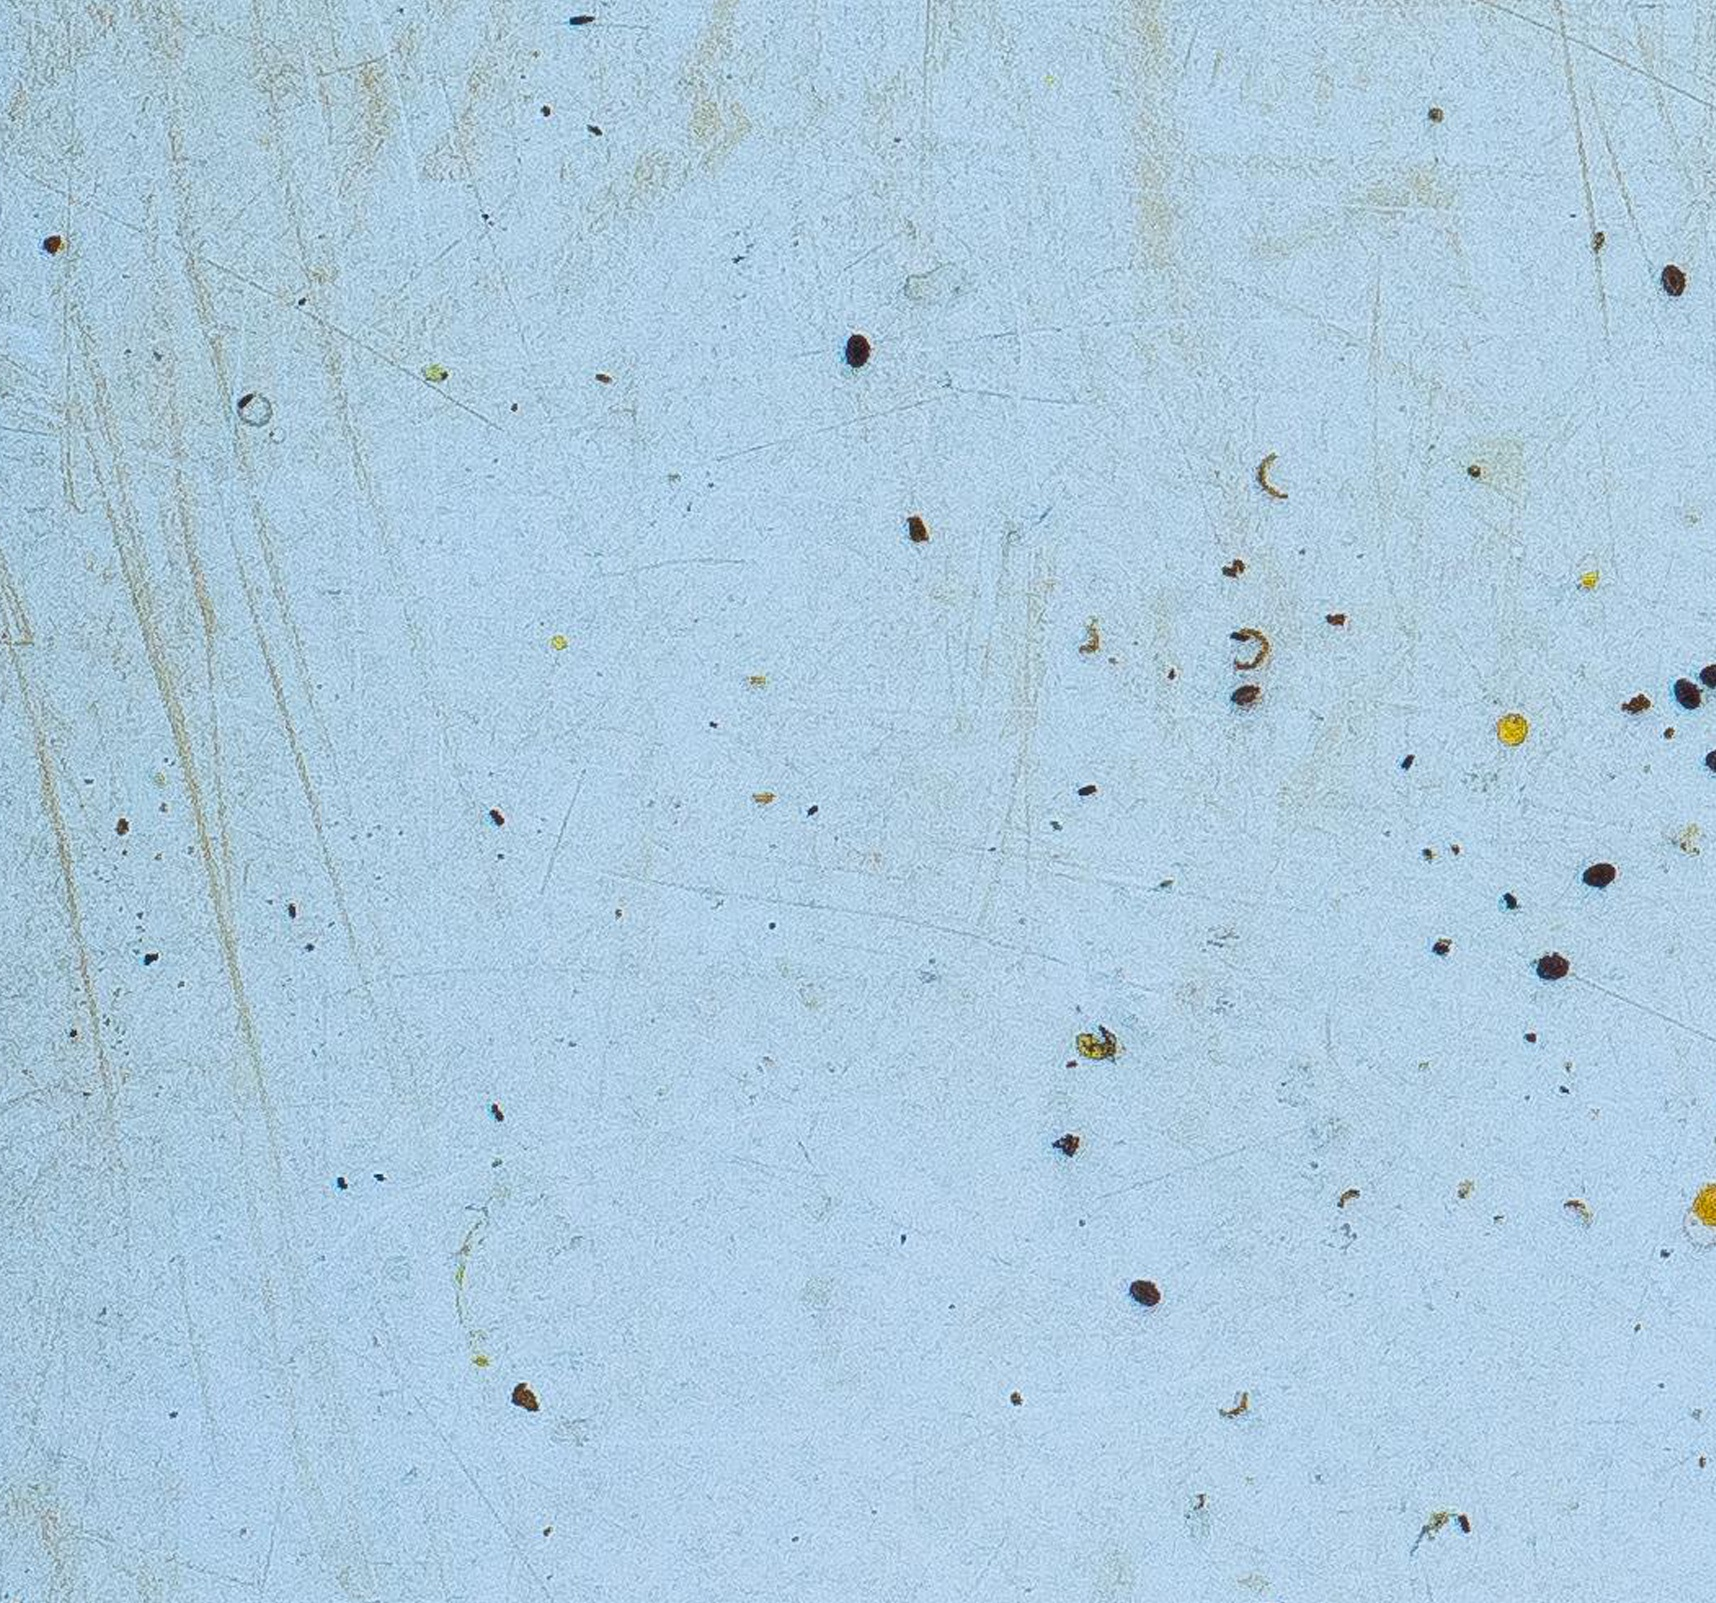Varroa: (1223, 667, 1270, 714), (1660, 667, 1707, 714), (1121, 1266, 1168, 1311), (838, 328, 883, 374), (1529, 945, 1574, 990), (1580, 854, 1626, 899), (1653, 264, 1696, 309)
